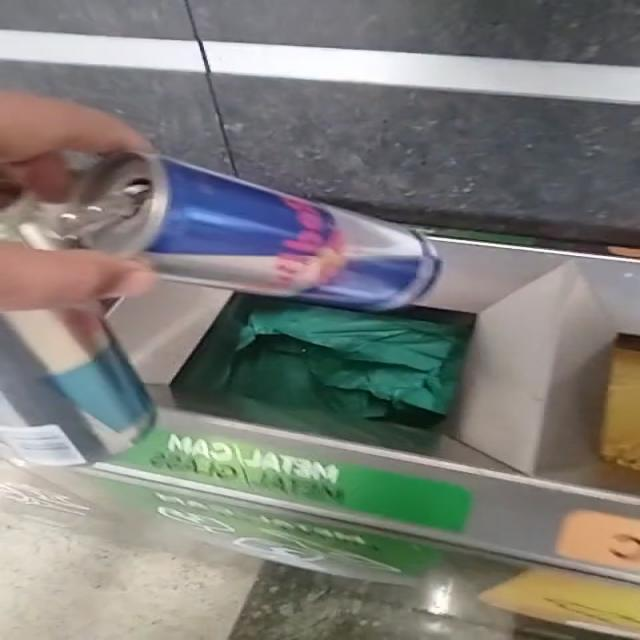bin: (111, 239, 639, 565)
metal: (4, 153, 439, 310)
